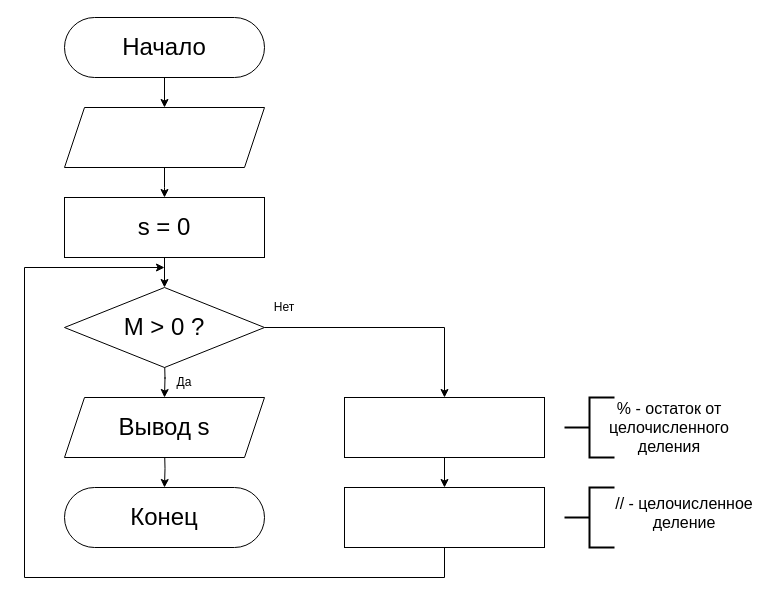
The diagram is 782 pixels wide and 603 high, and some of its shapes have lost their labels. Here are the shapes that lost their labels. From the top down, the centre of each, then its label:
pixel 164 137: Ввод N, M
pixel 444 427: s = s +(N % 10)
pixel 444 517: N = N // 10 M = M - 1
